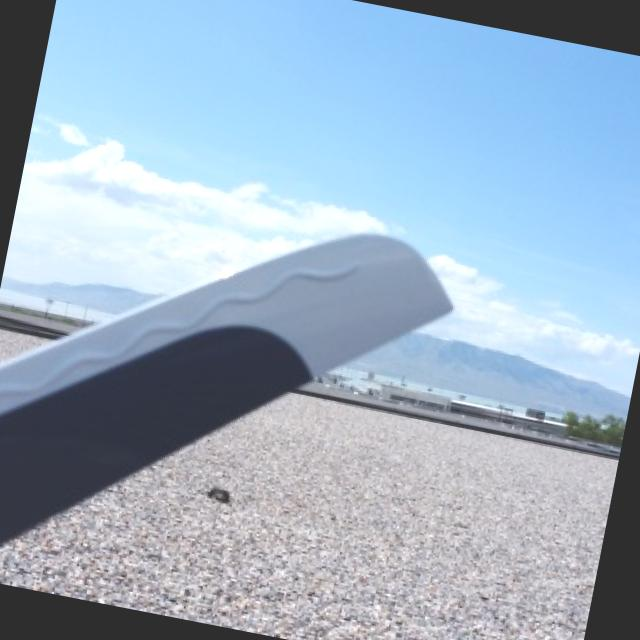healthy: (0, 231, 451, 540)
